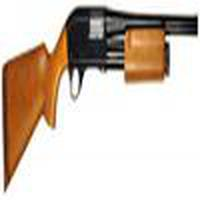gun: (2, 3, 200, 189)
